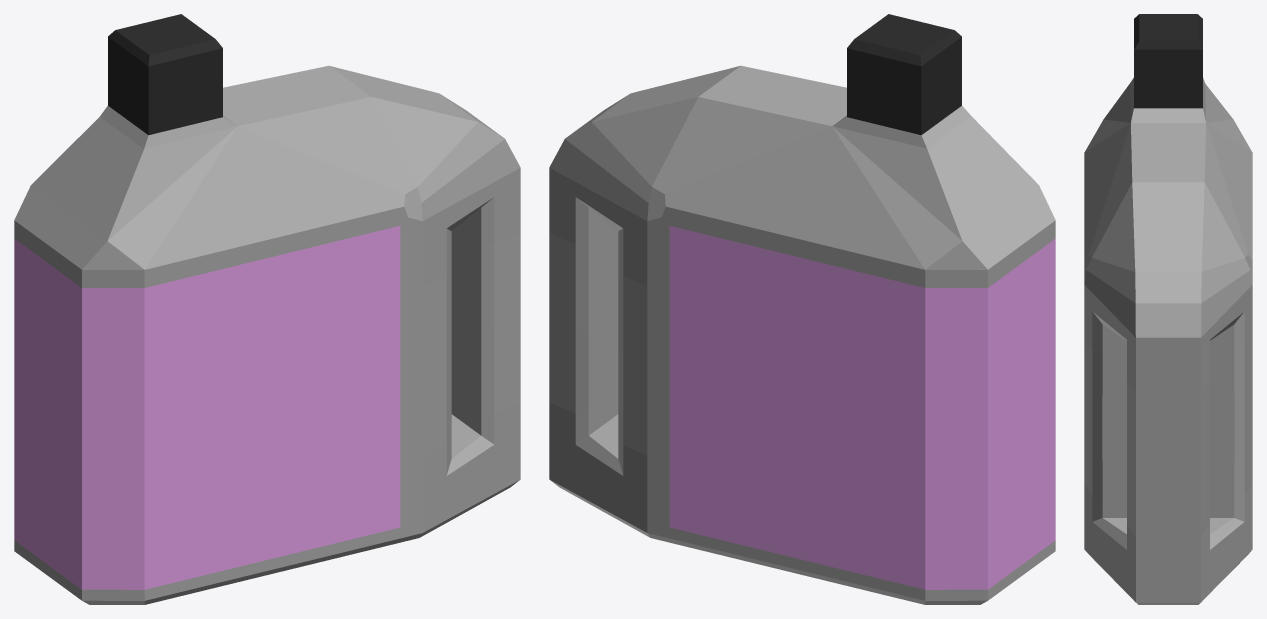
The model's file is Window Fluid Pink.fbx.
3 views of the same model, side by side, from view 1: azimuth 30°, elevation 25°; view 2: azimuth 150°, elevation 25°; view 3: azimuth 270°, elevation 25° (orthographic). The views are drawn at different scales.
Parts seen in each view (by area): view 1: Window Fluid Pink; view 2: Window Fluid Pink; view 3: Window Fluid Pink.
Boxes of the visible parts, x1,y1,x2,y2 form: Window Fluid Pink: (14, 14, 520, 604); Window Fluid Pink: (549, 14, 1055, 604); Window Fluid Pink: (1084, 14, 1252, 604).
Bounding box in the file's own units: 37.88 × 41.51 × 14.36.
Materials: 1 (1 with a texture image).
